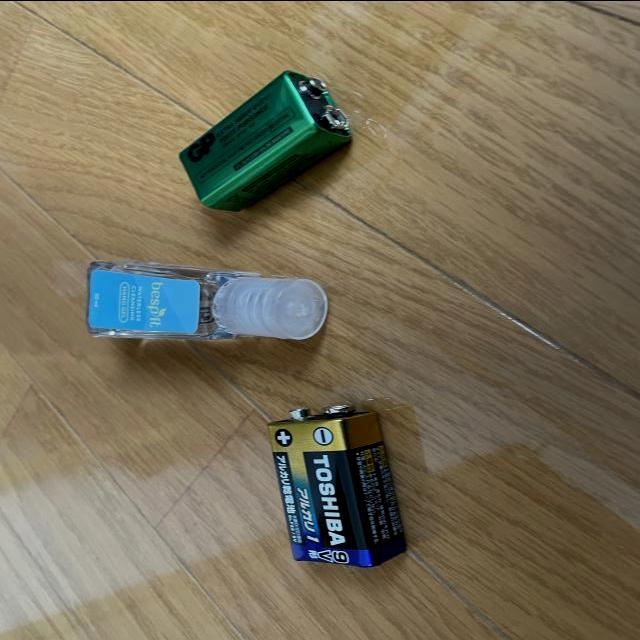9V: (177, 70, 353, 212), (270, 404, 408, 565)
